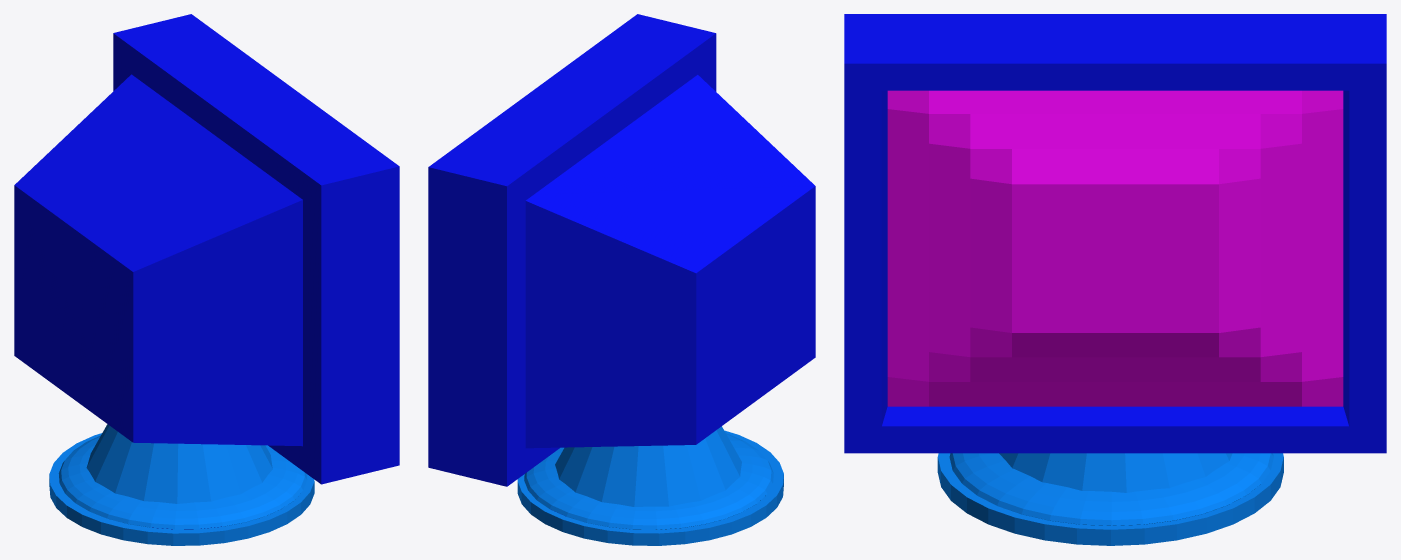
File: old_monitor_colored.fbx
The picture shows the model from 3 angles, left to right: view 1: azimuth 30°, elevation 25°; view 2: azimuth 150°, elevation 25°; view 3: azimuth 270°, elevation 25°; orthographic projection. The views are drawn at different scales.
Visible parts, largest first — view 1: Cube; view 2: Cube; view 3: Cube.
Boxes of the visible parts, bbox=[...] form: Cube: bbox=[14, 14, 399, 545]; Cube: bbox=[428, 14, 815, 545]; Cube: bbox=[844, 14, 1386, 545].
Size of the model in its own units: 91.24 by 142 by 143.
